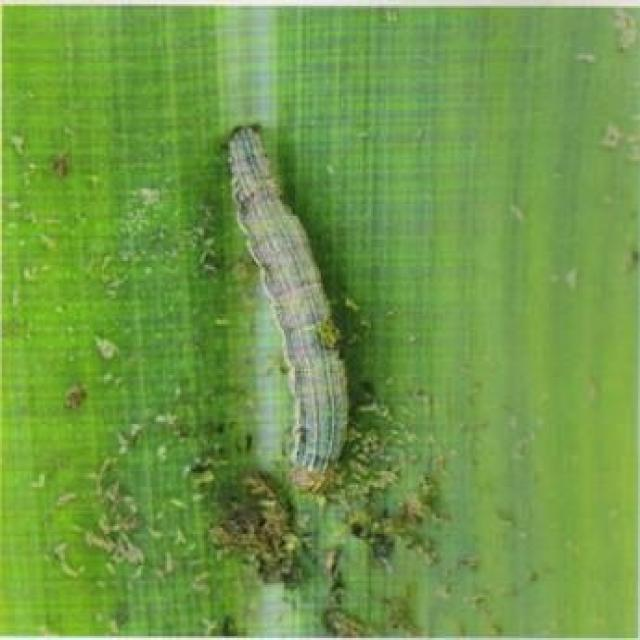army worm: (215, 121, 377, 513)
